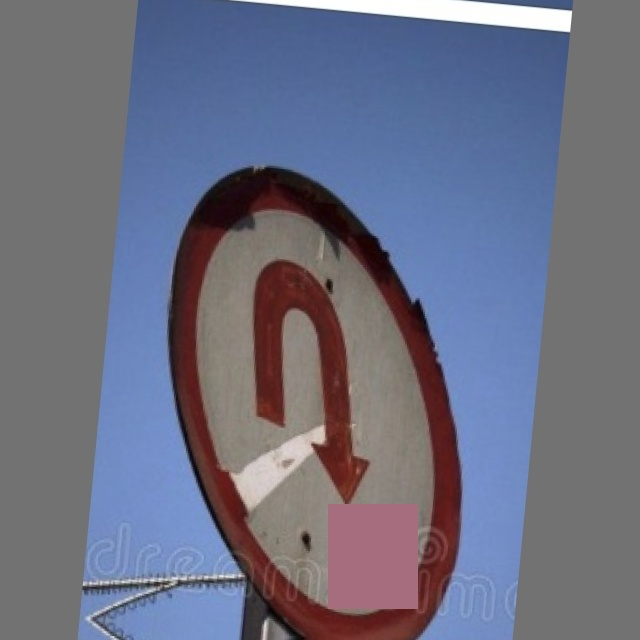U_Turn_Ahead: (150, 154, 500, 609)
